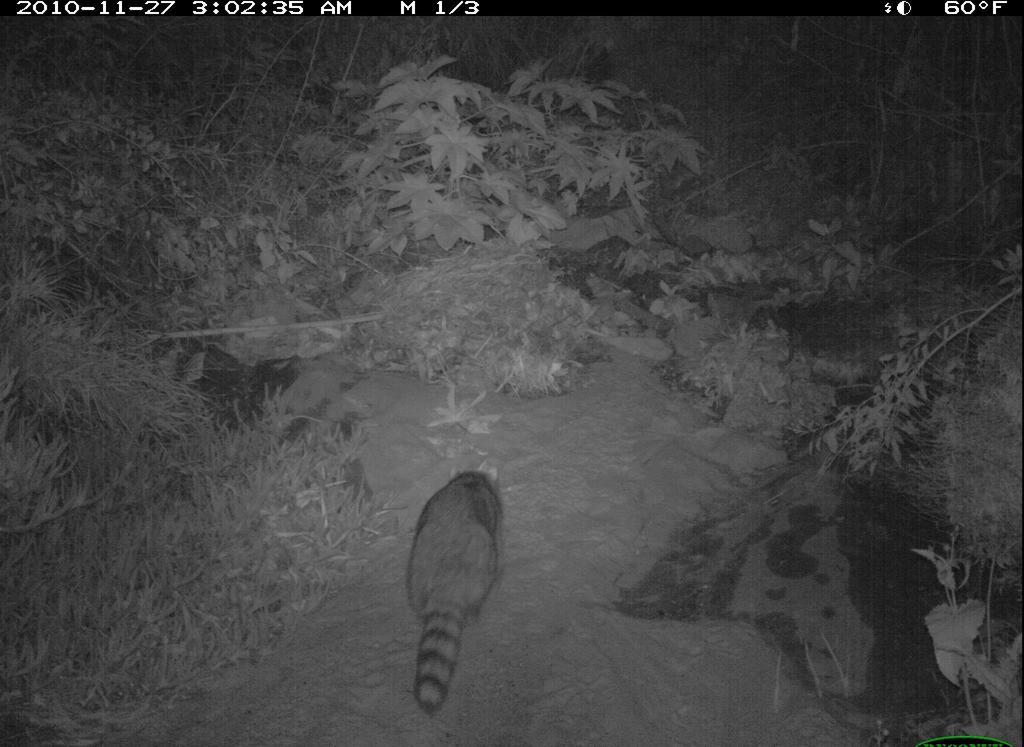raccoon: (399, 456, 515, 735)
